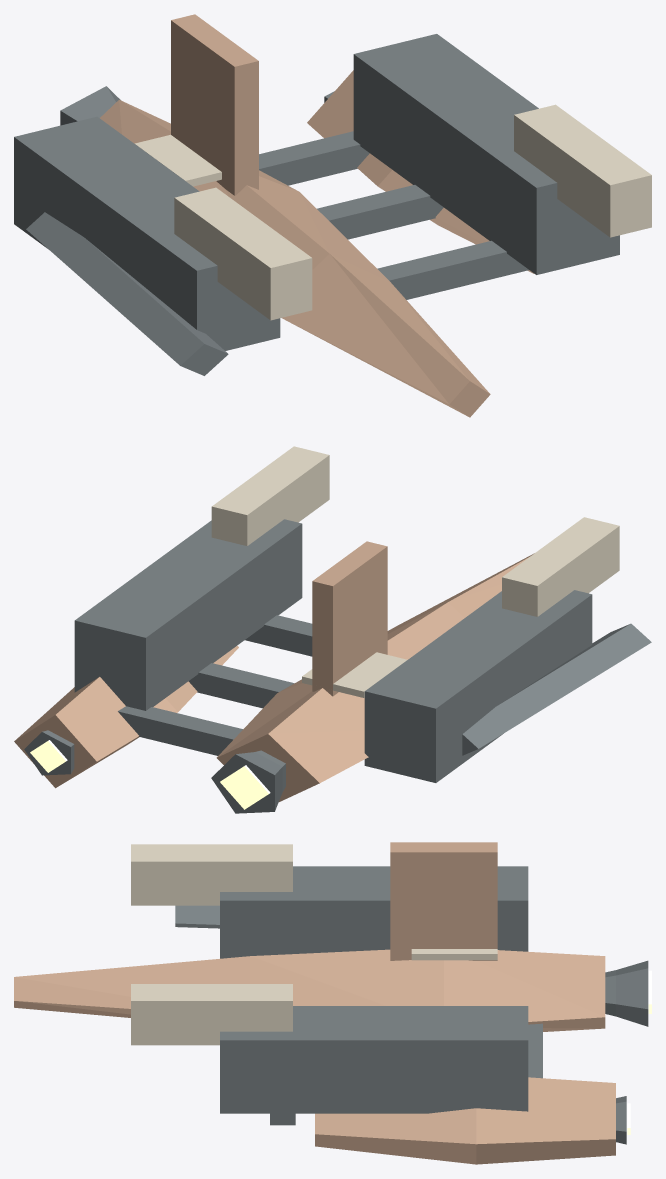
3 views of the same model, one above another, from view 1: azimuth 30°, elevation 25°; view 2: azimuth 150°, elevation 25°; view 3: azimuth 270°, elevation 25° (orthographic). The views are drawn at different scales.
Size of the model in its own units: 11.93 by 5.92 by 15.73.
